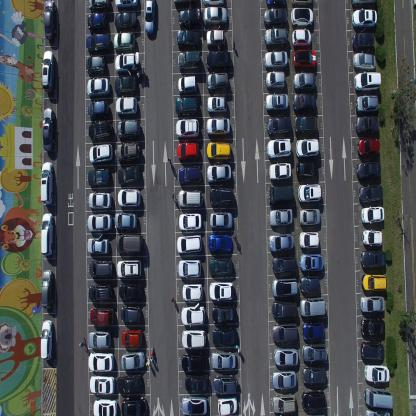car: (364, 386, 393, 410), (180, 351, 209, 374), (40, 161, 54, 206), (42, 107, 56, 152), (115, 51, 140, 76), (176, 230, 202, 254), (268, 182, 294, 206), (271, 275, 298, 298), (298, 296, 326, 318), (40, 212, 54, 256), (41, 49, 55, 93), (116, 233, 144, 255), (39, 318, 53, 361), (115, 372, 142, 394), (181, 394, 208, 416), (354, 71, 382, 92), (89, 141, 113, 165), (116, 140, 141, 163), (89, 118, 112, 143), (271, 253, 297, 275), (208, 184, 234, 206), (206, 162, 232, 184), (180, 304, 206, 326), (180, 327, 206, 349), (266, 115, 292, 137), (272, 392, 298, 414), (351, 6, 377, 28), (175, 117, 199, 140), (174, 95, 198, 118), (178, 186, 203, 208), (206, 140, 231, 162), (212, 326, 237, 348), (272, 368, 297, 390), (86, 76, 111, 98), (266, 136, 291, 158), (301, 389, 326, 411), (212, 375, 238, 396), (43, 0, 56, 41), (208, 230, 232, 252), (118, 186, 142, 208), (116, 118, 140, 140), (268, 160, 292, 182), (263, 6, 287, 28), (264, 26, 288, 48), (176, 27, 200, 49), (116, 258, 141, 279), (272, 322, 298, 342), (88, 374, 114, 394), (302, 343, 328, 363), (301, 366, 327, 386), (364, 364, 390, 384), (87, 212, 113, 232), (358, 183, 384, 203), (208, 280, 234, 300), (85, 33, 111, 53), (210, 304, 237, 323), (87, 352, 114, 371), (360, 250, 387, 269), (121, 396, 148, 415), (178, 163, 201, 185), (177, 140, 200, 162), (118, 163, 141, 185), (206, 72, 228, 95), (115, 94, 138, 116), (269, 206, 293, 227), (295, 159, 319, 180), (292, 92, 316, 113), (355, 94, 379, 115), (290, 7, 314, 28), (292, 49, 316, 70), (178, 49, 202, 70), (204, 5, 228, 26), (272, 298, 297, 318), (298, 254, 323, 274), (208, 254, 233, 274), (360, 319, 385, 339), (89, 306, 114, 326), (88, 258, 113, 278), (269, 232, 294, 252), (297, 183, 322, 203), (120, 350, 145, 370), (118, 282, 143, 302), (263, 49, 288, 69), (362, 273, 388, 292), (272, 348, 299, 366), (302, 320, 324, 342), (362, 339, 384, 361), (179, 209, 202, 230), (265, 92, 288, 113), (210, 209, 234, 229), (41, 269, 53, 309), (206, 117, 230, 137), (177, 257, 201, 277), (114, 74, 138, 94), (294, 115, 318, 135), (292, 72, 316, 92), (361, 205, 385, 225), (120, 328, 144, 348), (206, 50, 230, 70), (114, 10, 138, 30), (211, 351, 236, 370), (356, 161, 381, 180), (184, 374, 209, 393), (359, 295, 385, 313), (87, 166, 110, 186), (352, 30, 375, 50), (87, 329, 111, 348), (88, 190, 112, 209), (356, 138, 380, 157), (88, 283, 112, 302), (355, 116, 379, 135), (178, 7, 202, 26), (112, 31, 136, 50), (92, 397, 117, 415), (85, 55, 106, 76), (87, 11, 108, 32), (206, 95, 228, 115), (177, 74, 197, 96), (87, 98, 110, 117), (119, 305, 142, 324), (295, 138, 319, 156), (265, 70, 286, 90), (298, 274, 320, 293), (353, 51, 375, 70), (114, 211, 137, 229), (206, 28, 226, 48), (182, 283, 203, 302), (87, 236, 109, 254), (298, 207, 320, 225), (218, 396, 238, 415), (292, 28, 312, 47), (299, 230, 320, 248), (362, 229, 382, 247), (144, 0, 154, 36), (88, 0, 110, 11), (350, 0, 378, 7), (114, 0, 138, 8), (290, 0, 312, 8), (265, 0, 286, 8), (365, 410, 391, 416), (202, 0, 223, 6)
